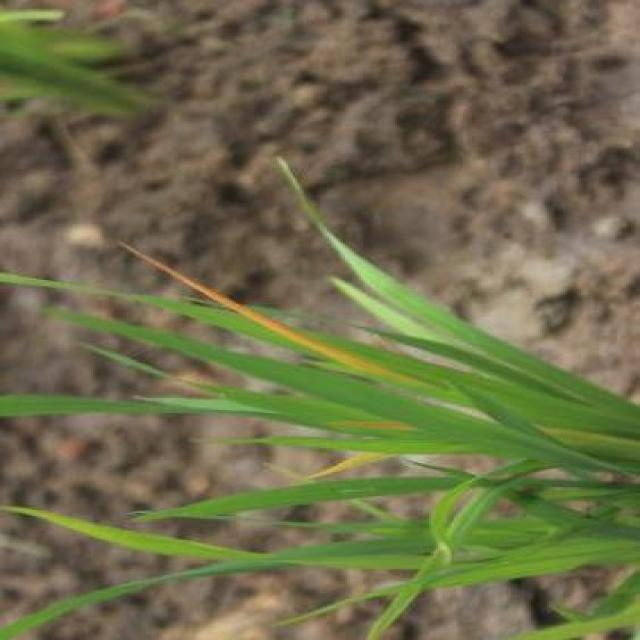Tungro: (114, 227, 344, 358), (7, 489, 221, 573)
